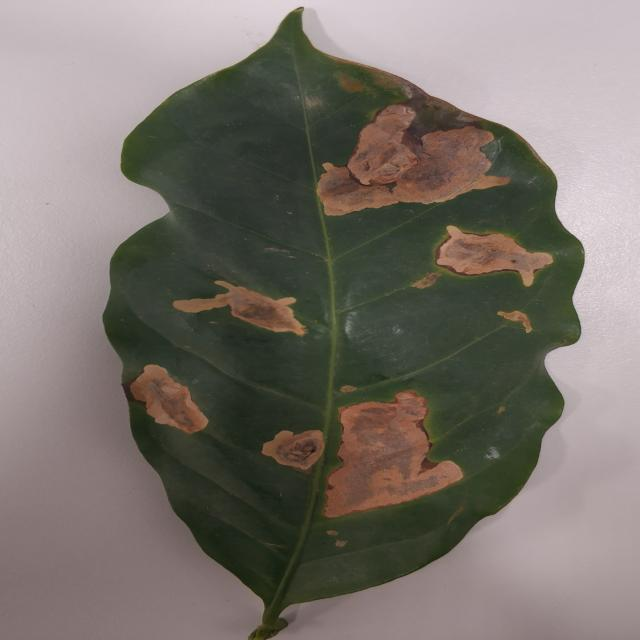Plaga-Minador: (101, 8, 585, 640)
